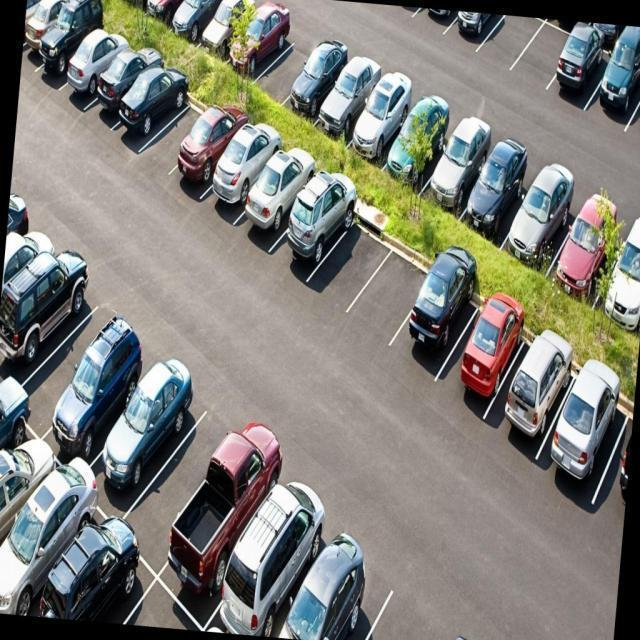space-empty: (128, 367, 252, 568), (29, 275, 123, 430), (344, 235, 426, 365), (309, 207, 389, 333), (140, 80, 213, 191), (93, 579, 208, 631), (258, 21, 320, 115), (509, 16, 572, 95), (476, 13, 537, 84)
space-occupied: (161, 411, 303, 634), (218, 472, 352, 640), (99, 336, 210, 513), (53, 303, 156, 475), (2, 234, 105, 398), (0, 471, 111, 622), (19, 511, 155, 626), (273, 523, 396, 640), (495, 310, 578, 462), (547, 349, 623, 510), (200, 109, 291, 242), (400, 240, 486, 380), (268, 172, 366, 290), (0, 213, 79, 359), (448, 280, 524, 419), (0, 433, 58, 607), (239, 141, 319, 264), (58, 17, 141, 131), (504, 146, 575, 279), (83, 32, 164, 148), (553, 171, 619, 311), (461, 127, 532, 255), (169, 94, 250, 205), (380, 81, 454, 199), (113, 55, 187, 168), (32, 0, 115, 98), (352, 65, 417, 178), (418, 102, 480, 217), (318, 45, 381, 152), (289, 29, 355, 131), (224, 0, 292, 98), (587, 23, 640, 148), (548, 19, 616, 114), (594, 394, 635, 551), (20, 0, 89, 86), (600, 208, 640, 351), (0, 381, 31, 552), (0, 181, 39, 316), (199, 0, 264, 71), (452, 11, 510, 64), (173, 0, 238, 40), (20, 0, 55, 72), (144, 0, 208, 29), (418, 8, 480, 33), (117, 0, 179, 22), (551, 19, 603, 43), (630, 37, 640, 152)
